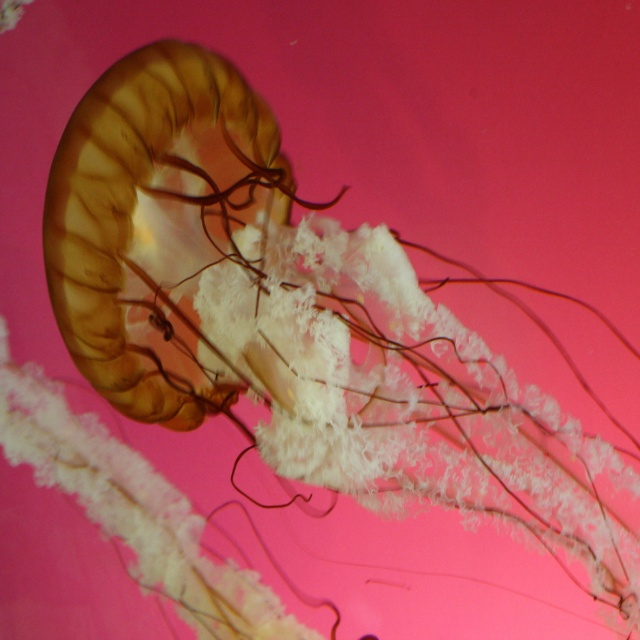Jellyfish: (43, 36, 640, 639)
